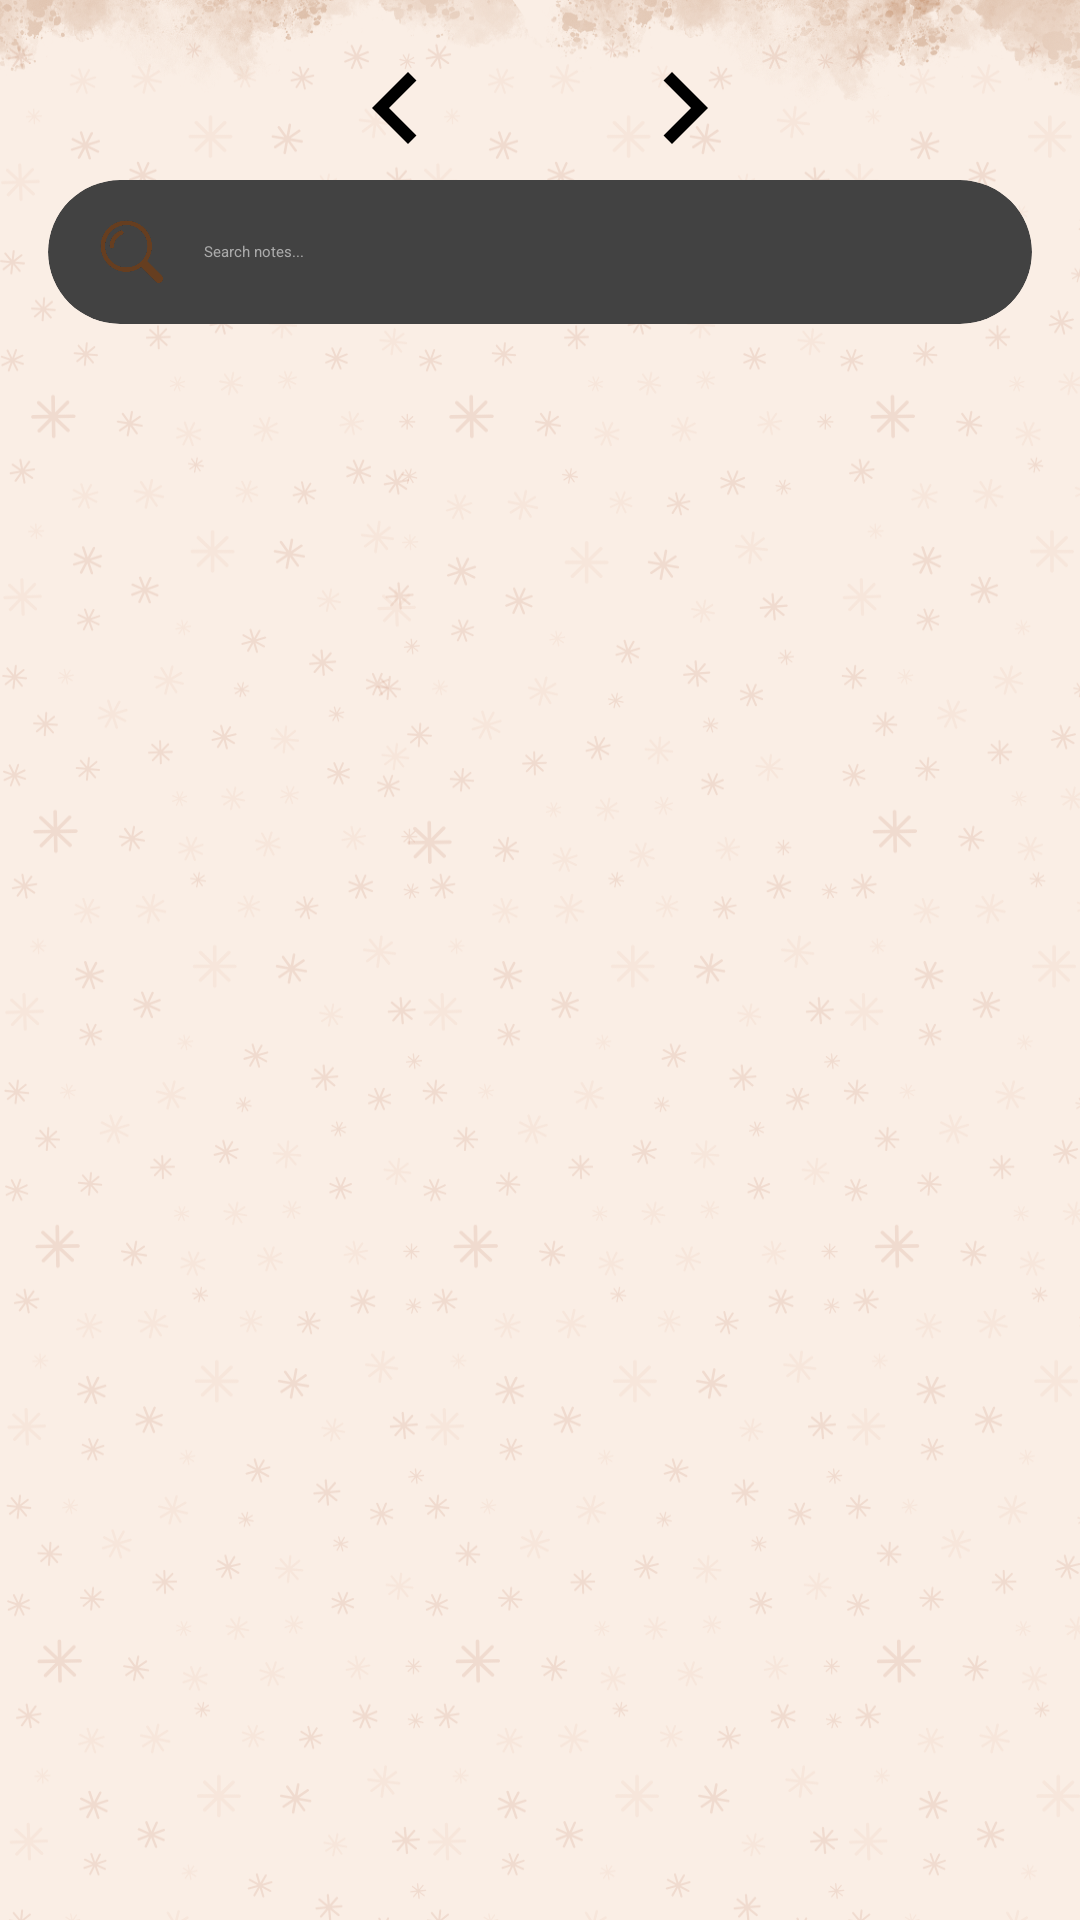

Icons on this 1080 × 1920 Android screen, each with the point to tap as (x=x, y=y):
Previous month: (x=406, y=90)
